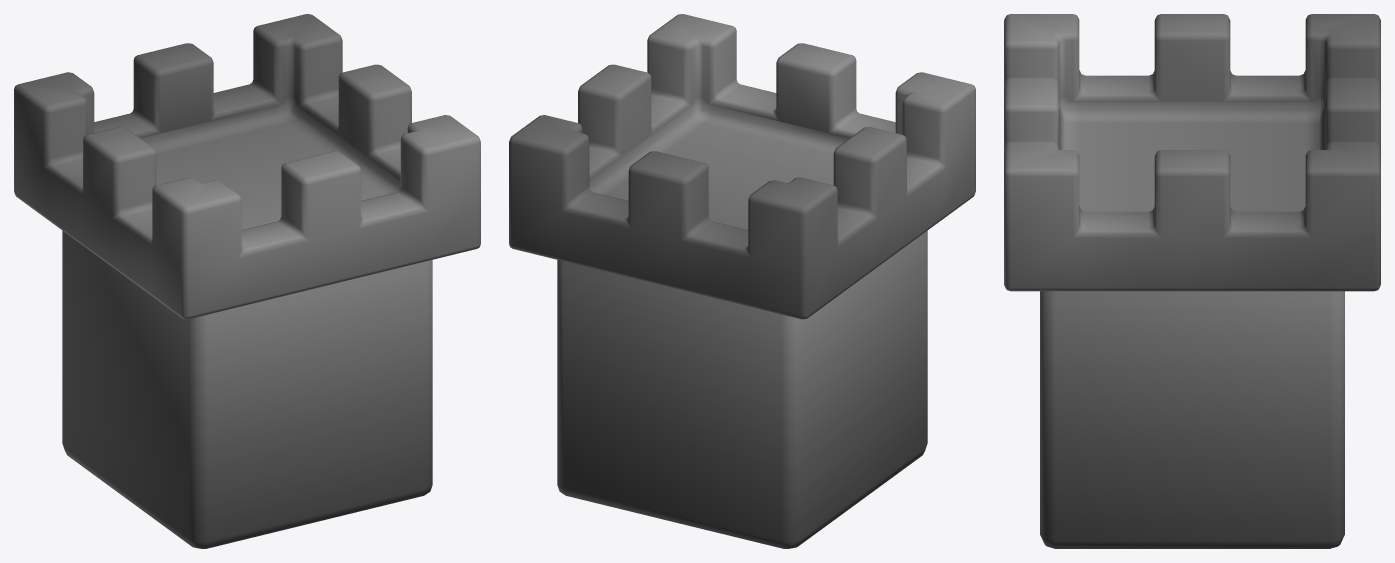
The model's file is 3D_Tile_Dungeon_Top_01.fbx.
The picture shows the model from 3 angles, left to right: view 1: azimuth 30°, elevation 25°; view 2: azimuth 150°, elevation 25°; view 3: azimuth 270°, elevation 25°; orthographic projection. The views are drawn at different scales.
Parts seen in each view (by area): view 1: 3D_Tile_Dungeon_Top_01; view 2: 3D_Tile_Dungeon_Top_01; view 3: 3D_Tile_Dungeon_Top_01.
Boxes of the visible parts, <box> form: 3D_Tile_Dungeon_Top_01: <box>14,14,480,548</box>; 3D_Tile_Dungeon_Top_01: <box>509,14,975,548</box>; 3D_Tile_Dungeon_Top_01: <box>1004,14,1380,548</box>.
Bounding box in the file's own units: 247 × 289 × 247.
